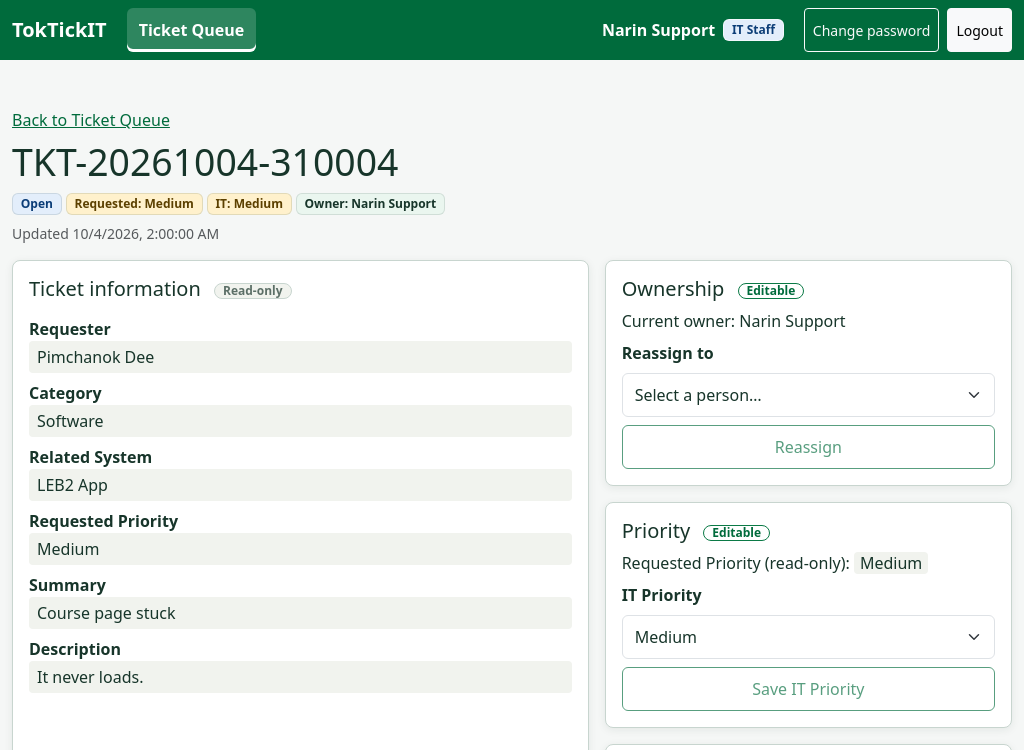
Test case: UI-06 Staff Ticket Detail › requires confirmation to reassign and sends the confirmed flag
Expected: the heading "TKT-20261004-310004" is shown, [12,136,398,187]
Step 1. Select "Kanda Service" in the dropdown labelled "Reassign to" → (808, 395), box [622,373,995,417]
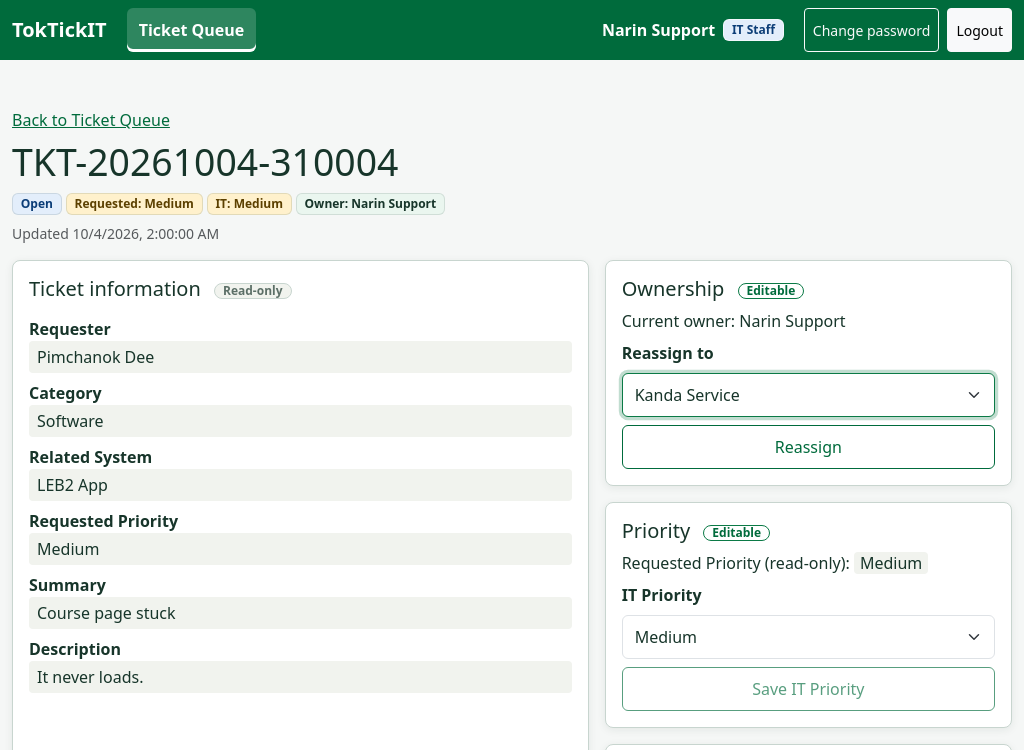
Step 2. Click the button "Reassign" → (808, 447), box [622,425,995,469]
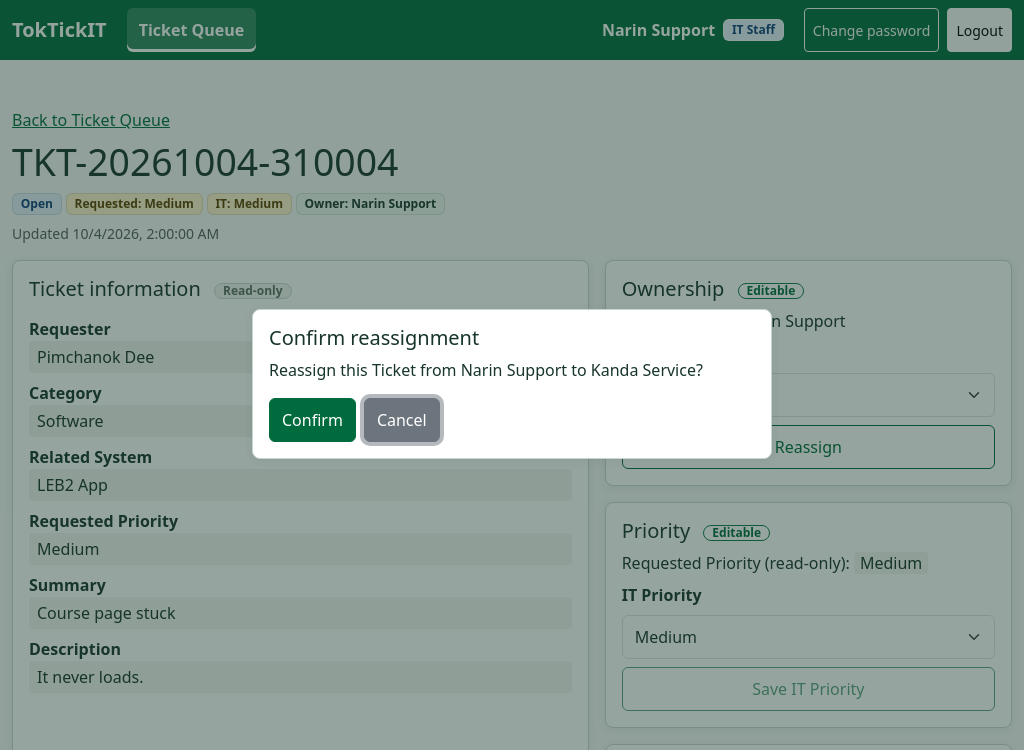
Expected: the text "Reassign this Ticket from Narin Support to Kanda Service?" is shown, [269,358,755,382]
Step 3. Click the button "Confirm" → (312, 420), box [269,398,356,442]
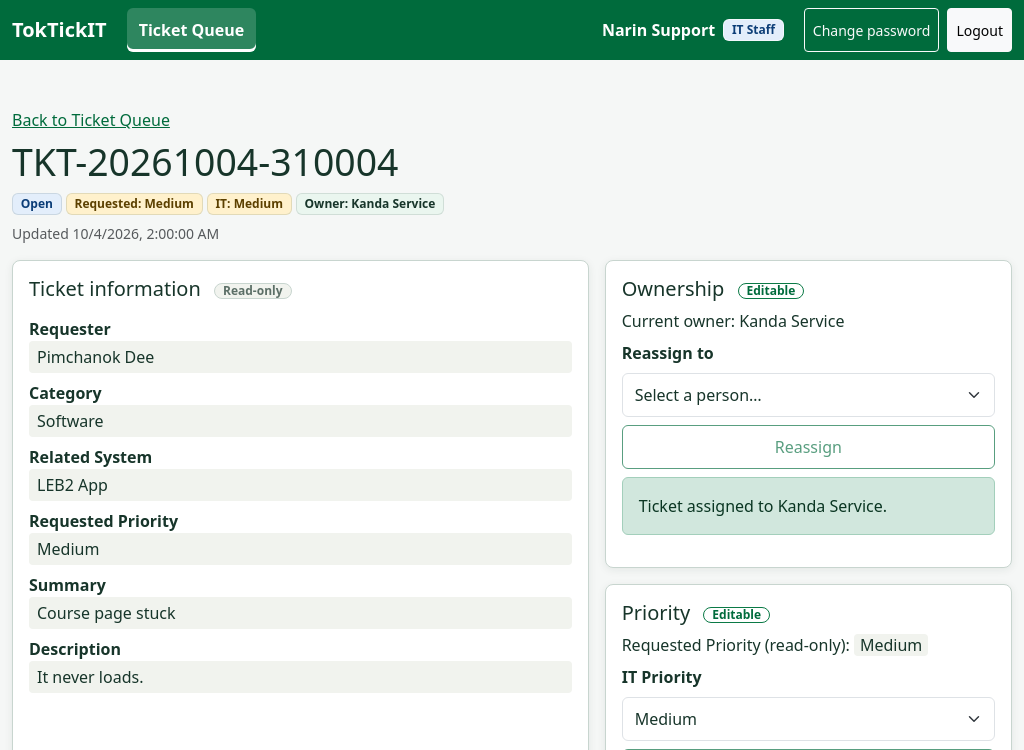
Expected: the text "Ticket assigned to Kanda Service." is shown, [622,477,995,535]
